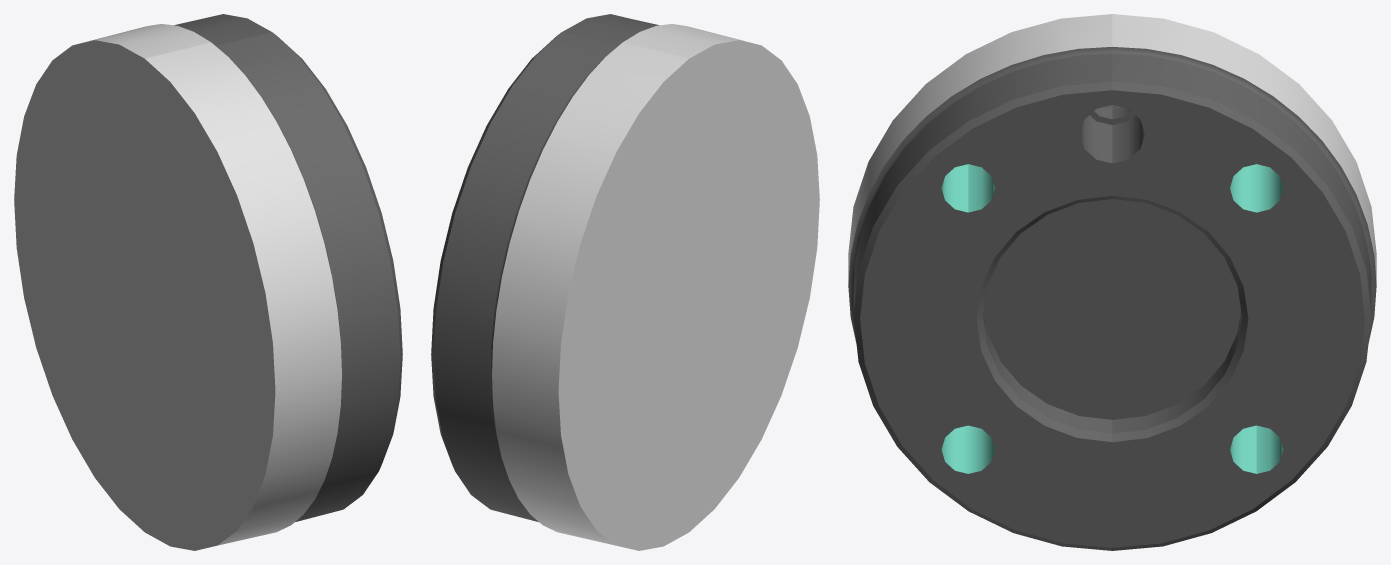
3 renders of one model, left to right at view 1: azimuth 30°, elevation 25°; view 2: azimuth 150°, elevation 25°; view 3: azimuth 270°, elevation 25°, orthographic.
Parts seen in each view (by area): view 1: Mesh_0; view 2: Mesh_0; view 3: Mesh_0.
Boxes of the visible parts, x1,y1,x2,y2 form: Mesh_0: (14,14,402,550); Mesh_0: (431,14,819,550); Mesh_0: (848,14,1376,550).
Size of the model in its own units: 0.012 by 0.0408 by 0.0408.
